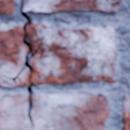brick: (22, 0, 120, 11), (123, 95, 129, 129), (0, 0, 13, 12)
broken_brick: (27, 23, 117, 85), (0, 93, 110, 129), (0, 25, 24, 76), (0, 77, 26, 86)
crack: (0, 2, 44, 127), (89, 94, 103, 98)
